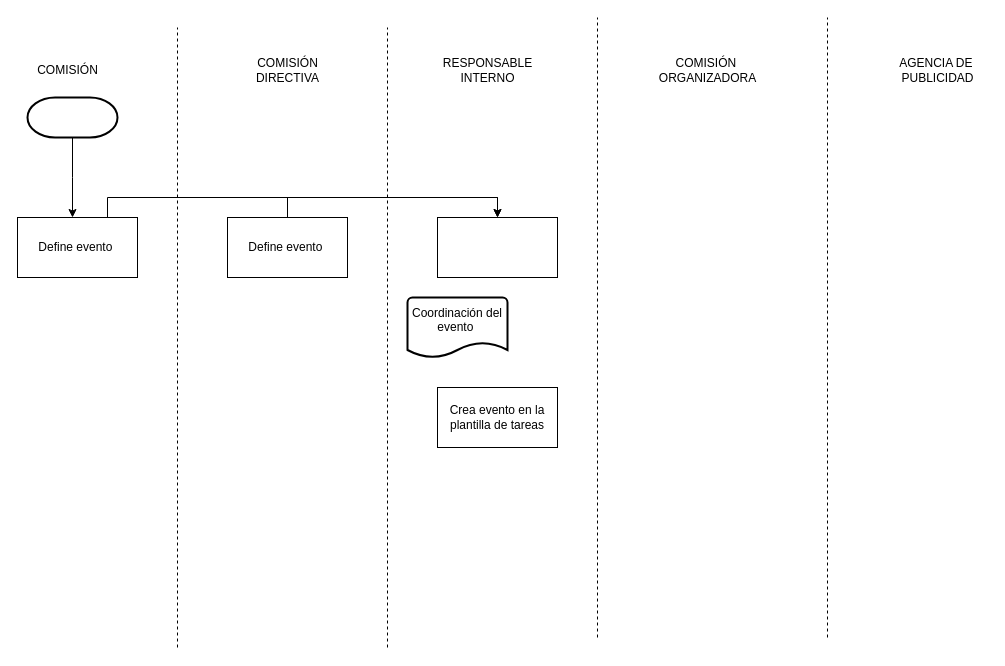
The diagram is 1005 pixels wide and 666 high, and some of its shapes have lost their labels. Each missing label, with the box of its shape:
Crea documento "Coordinacion del Evento ": (436, 216, 558, 278)
INICIO: (26, 96, 118, 138)
